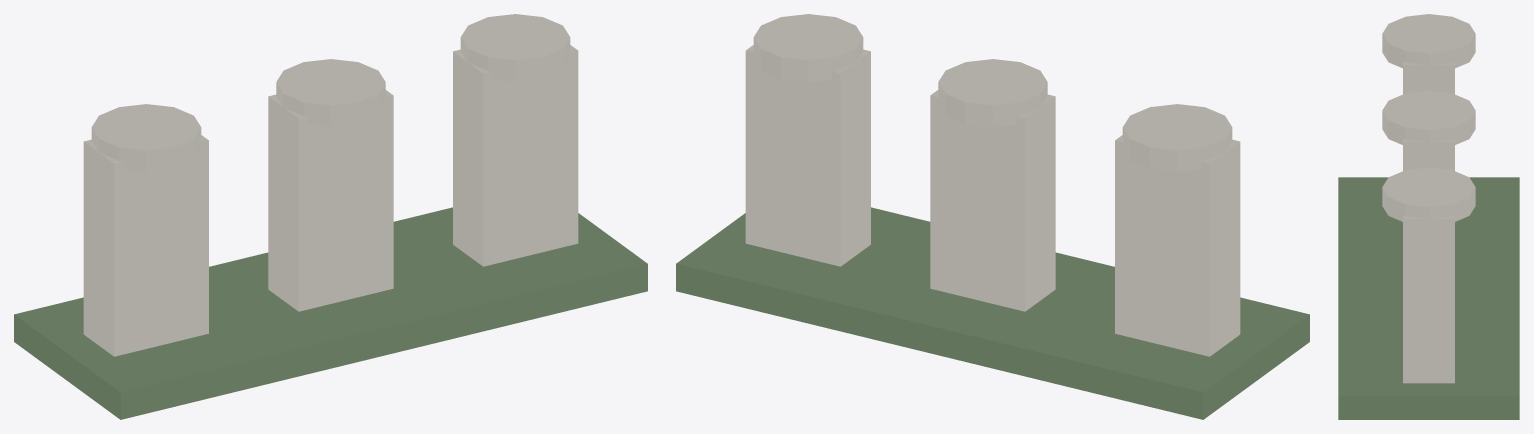
The model's file is solid_tombstone_row.glb.
The picture shows the model from 3 angles, left to right: view 1: azimuth 30°, elevation 25°; view 2: azimuth 150°, elevation 25°; view 3: azimuth 270°, elevation 25°; orthographic projection. The views are drawn at different scales.
Visible parts, largest first — view 1: tombstone_row; view 2: tombstone_row; view 3: tombstone_row.
Boxes of the visible parts, bbox=[...] form: tombstone_row: bbox=[14, 14, 647, 419]; tombstone_row: bbox=[676, 14, 1309, 419]; tombstone_row: bbox=[1338, 14, 1519, 419].
Bounding box in the file's own units: 1 × 0.425 × 0.35.
